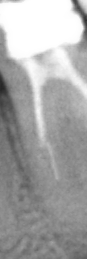fracture: (43, 144, 63, 184)
